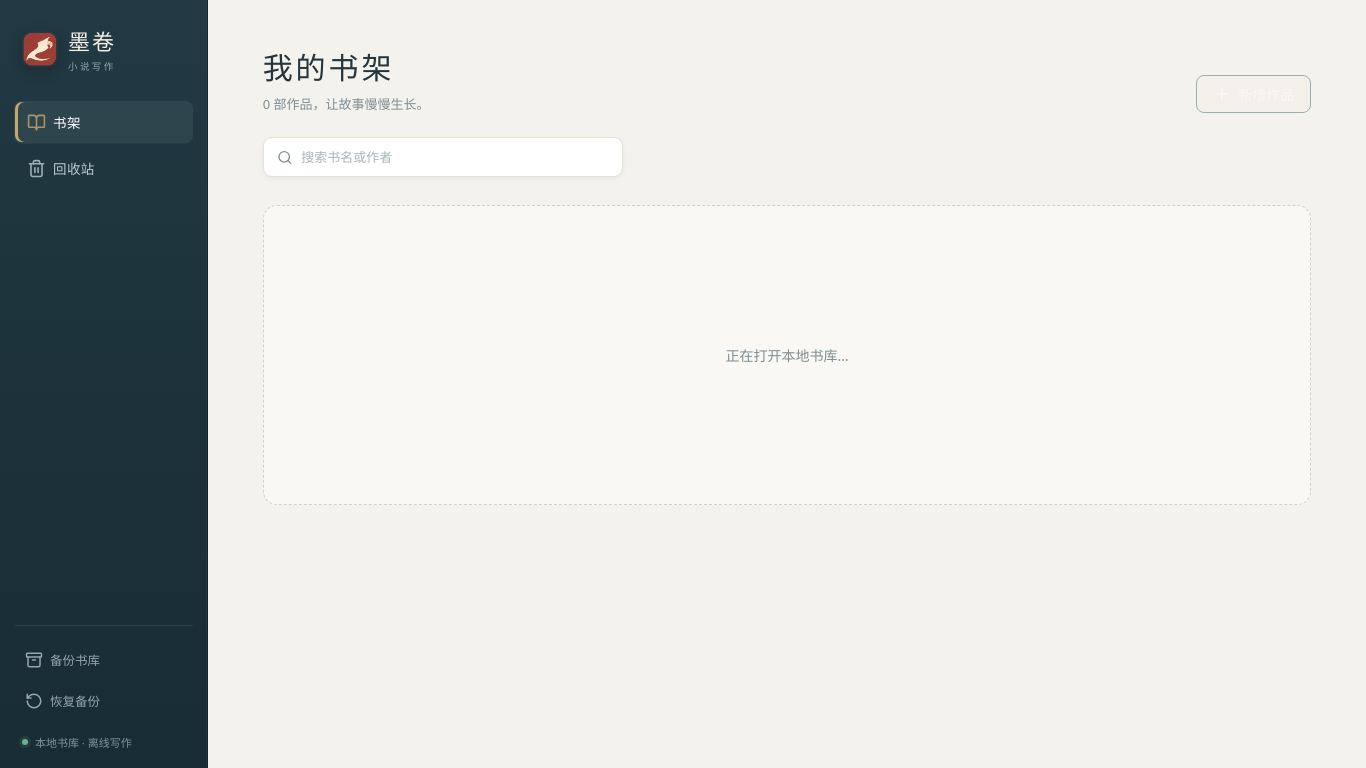
it: ignores a late startup success after the restored shelf is visible
This screenshot has width=1366, height=768.
Later steps or results of the test are not shown.
Check: the text "正在打开本地书库…" is shown, box [263, 205, 1311, 505]
Click the button "备份书库".
click(104, 660)  # box [14, 640, 193, 679]
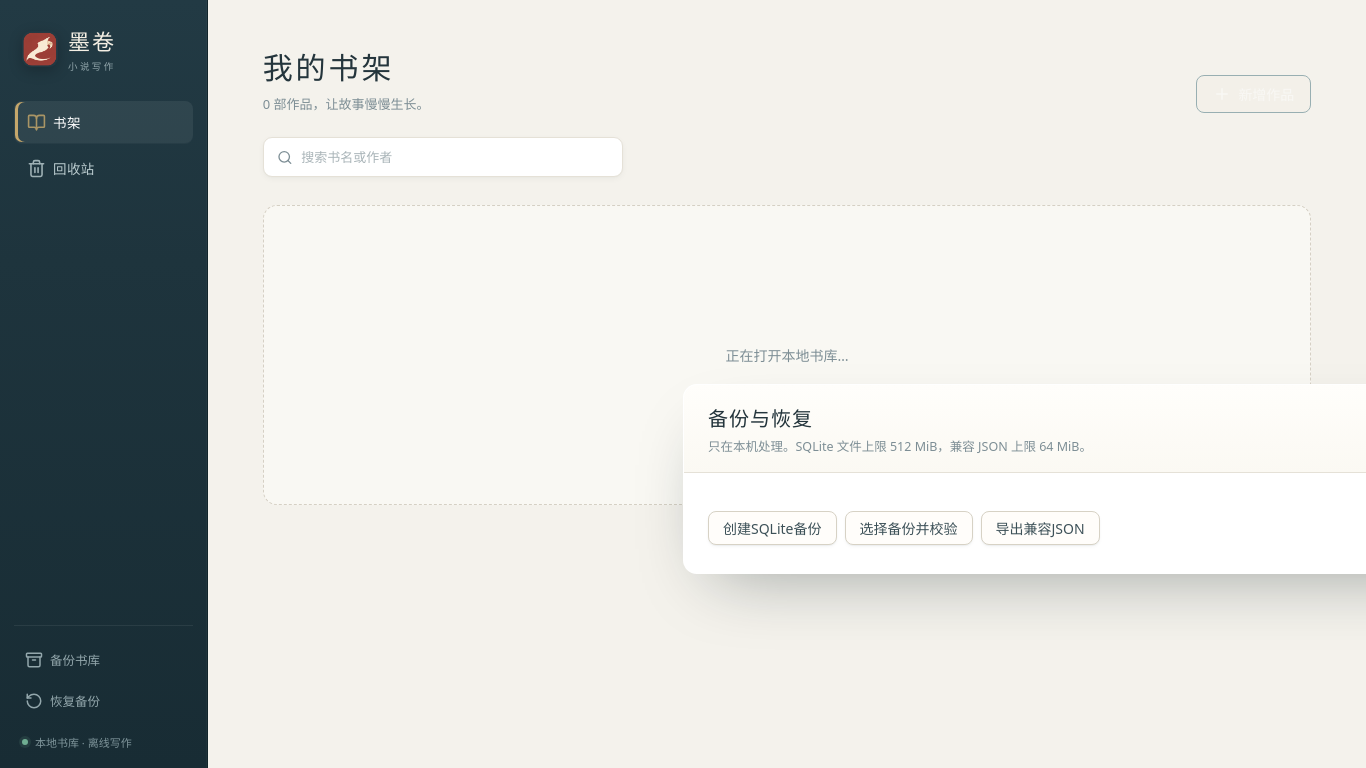
Check: the button "选择备份并校验" is enabled, box [844, 511, 972, 545]
